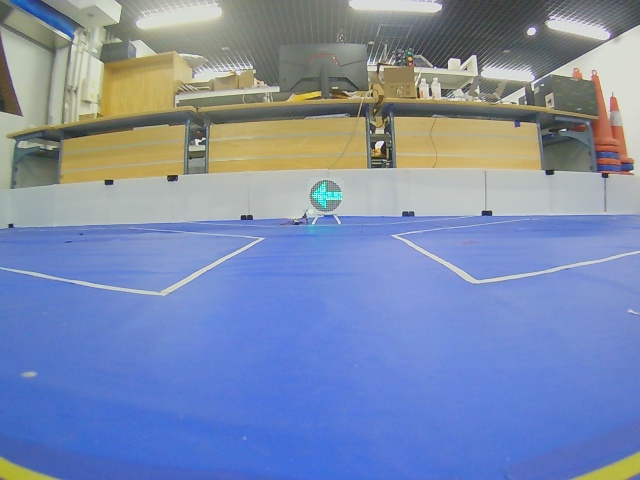left_green: (309, 180, 343, 213)
